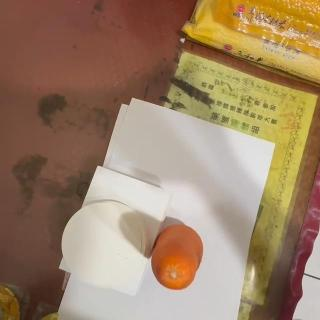carrot: (152, 224, 205, 292)
